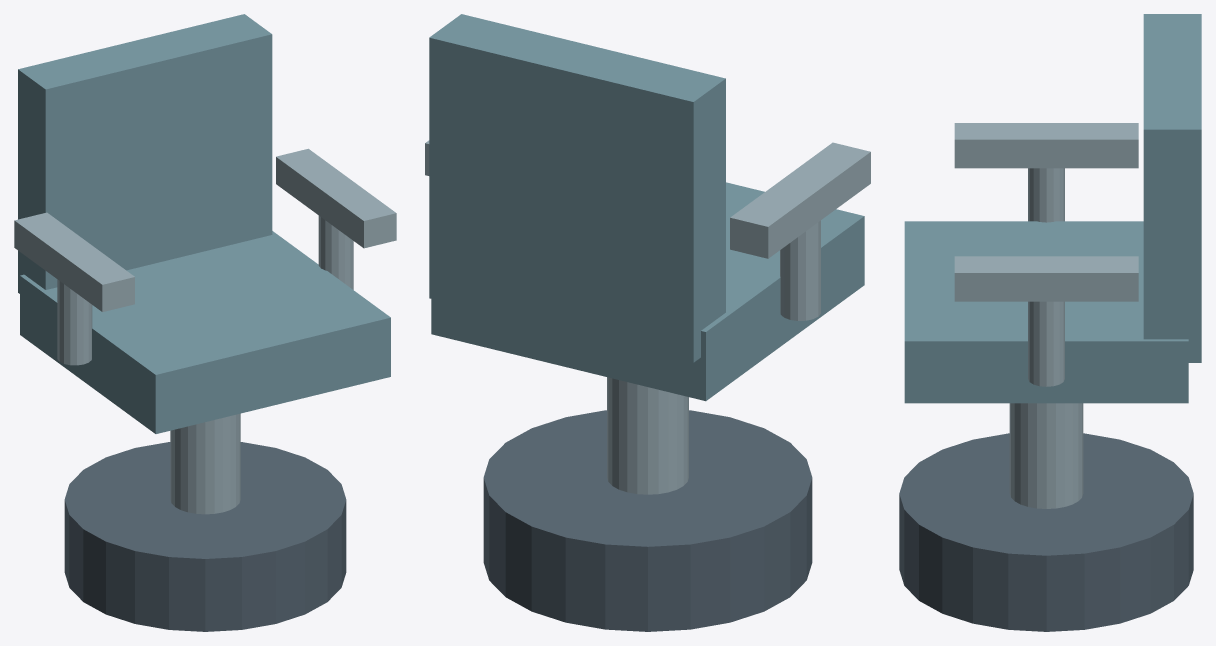
File: visitor_chair.glb
The picture shows the model from 3 angles, left to right: view 1: azimuth 30°, elevation 25°; view 2: azimuth 150°, elevation 25°; view 3: azimuth 270°, elevation 25°; orthographic projection. The views are drawn at different scales.
Visible parts, largest first — view 1: pad_3, pad_2, dark_0, steel_1, steel_5, steel_7, steel_4, steel_6; view 2: pad_3, dark_0, pad_2, steel_1, steel_5, steel_4; view 3: dark_0, pad_2, pad_3, steel_7, steel_5, steel_1, steel_6, steel_4.
Part boxes in pixels (x1,y1,x2,y2): pad_3: [18, 14, 272, 293]; pad_2: [20, 231, 390, 433]; dark_0: [64, 442, 346, 631]; steel_1: [170, 413, 240, 514]; steel_5: [14, 212, 134, 312]; steel_7: [276, 148, 396, 248]; steel_4: [57, 279, 92, 365]; steel_6: [318, 215, 353, 289]; pad_3: [429, 14, 725, 362]; dark_0: [483, 410, 812, 631]; pad_2: [431, 182, 864, 401]; steel_1: [607, 377, 688, 494]; steel_5: [730, 142, 870, 258]; steel_4: [780, 220, 820, 320]; dark_0: [899, 433, 1193, 631]; pad_2: [904, 221, 1188, 403]; pad_3: [1143, 14, 1201, 362]; steel_7: [954, 256, 1138, 301]; steel_5: [954, 123, 1138, 168]; steel_1: [1009, 403, 1083, 508]; steel_6: [1028, 301, 1064, 386]; steel_4: [1028, 168, 1064, 222].
Bounding box in the file's own units: 0.675 × 1.04 × 0.575.
